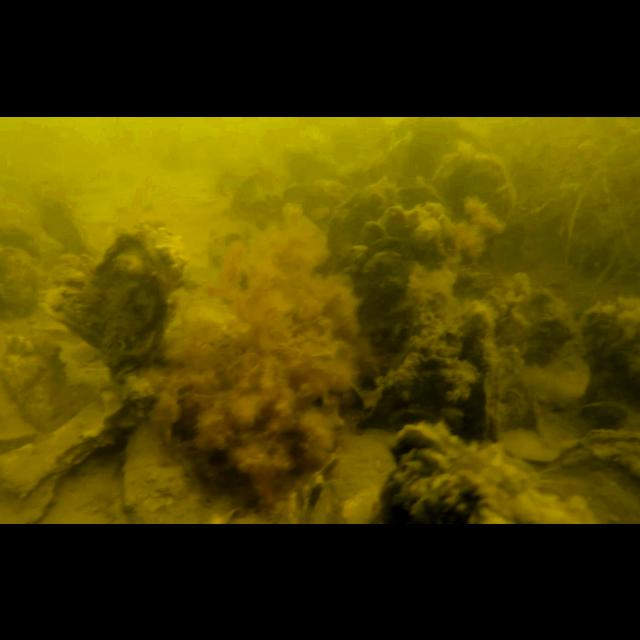Oyster-Closed: (98, 217, 190, 379), (0, 389, 130, 497), (412, 462, 594, 524), (118, 414, 210, 524), (433, 144, 519, 260), (324, 180, 448, 256), (1, 329, 79, 431), (40, 250, 100, 348), (360, 202, 450, 264), (22, 189, 90, 253)
Oyster-Open: (381, 418, 534, 524), (349, 232, 413, 351), (1, 217, 52, 317), (578, 396, 636, 439)
